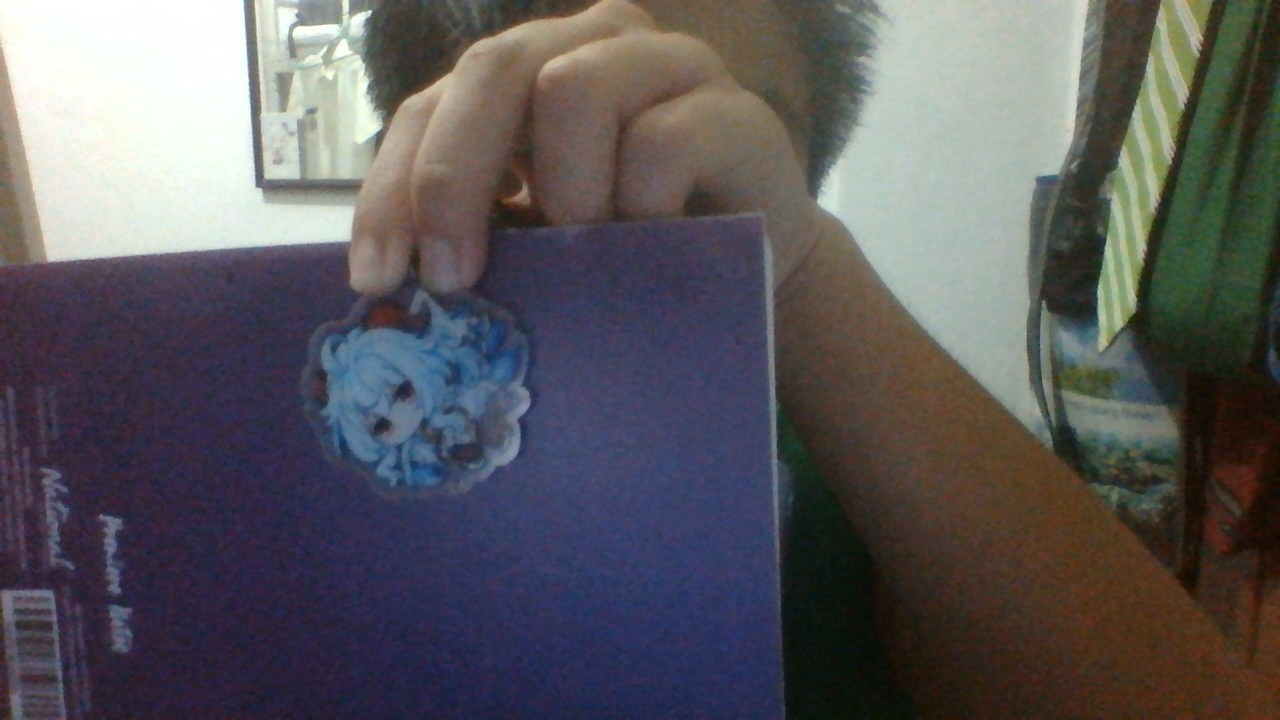Person: (289, 292, 553, 504)
